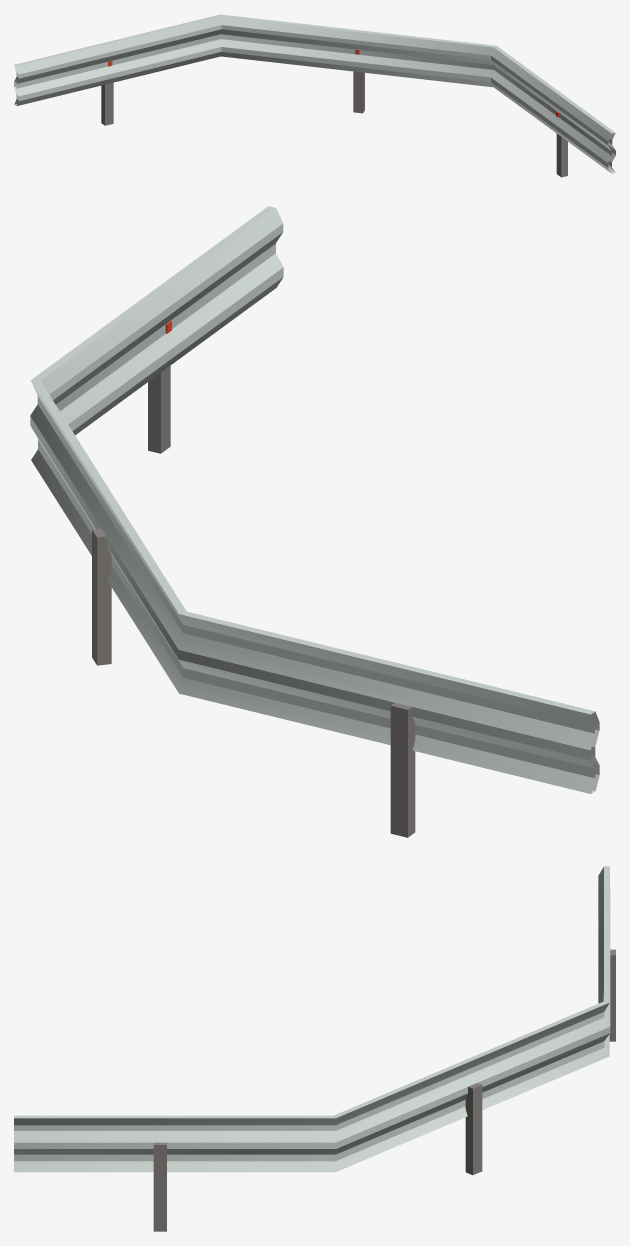
File: SM_Fencing_Angle_01.fbx
The picture shows the model from 3 angles, top to bottom: view 1: azimuth 30°, elevation 25°; view 2: azimuth 150°, elevation 25°; view 3: azimuth 270°, elevation 25°; orthographic projection. The views are drawn at different scales.
Visible parts, largest first — view 1: SM_Fencing_Angle_01; view 2: SM_Fencing_Angle_01; view 3: SM_Fencing_Angle_01.
Part boxes in pixels (x1,y1,x2,y2): SM_Fencing_Angle_01: (14,14,615,177); SM_Fencing_Angle_01: (30,206,599,837); SM_Fencing_Angle_01: (14,866,615,1231).
Bounding box in the file's own units: 411 × 83.46 × 411.
